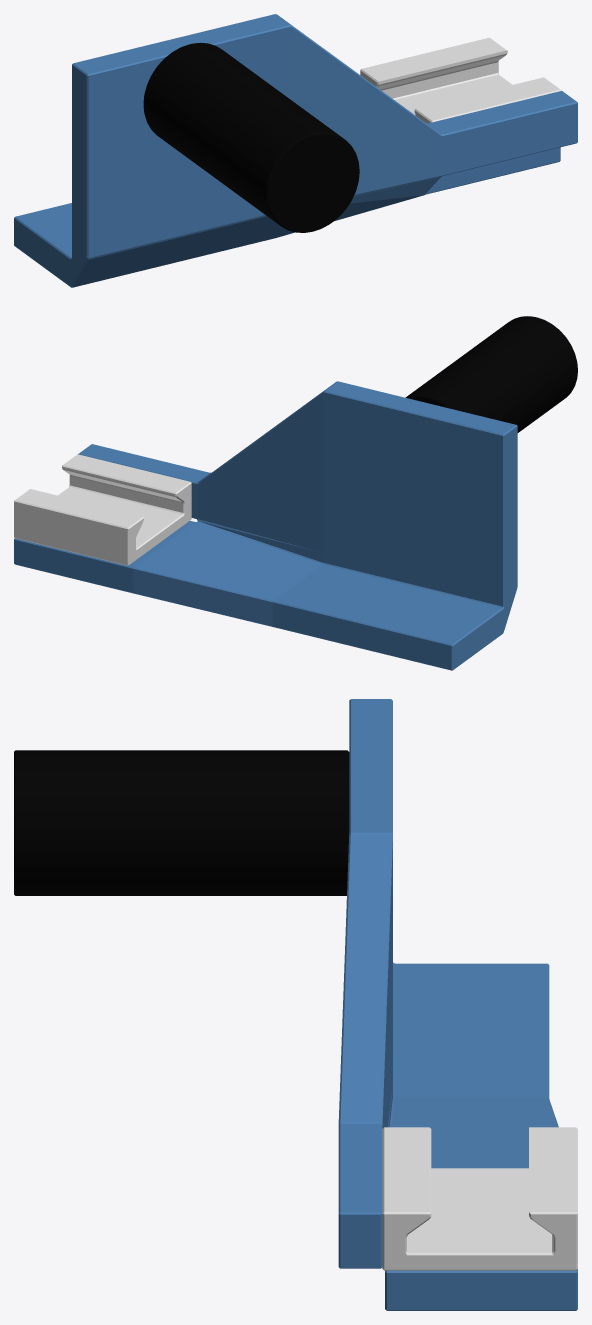
File: VIS_ElbowWristLink.dae
3 renders of one model, top to bottom at view 1: azimuth 30°, elevation 25°; view 2: azimuth 150°, elevation 25°; view 3: azimuth 270°, elevation 25°, orthographic. The views are drawn at different scales.
Parts seen in each view (by area): view 1: VIS_ElbowWristLink; view 2: VIS_ElbowWristLink; view 3: VIS_ElbowWristLink.
Part boxes in pixels (bbox=[...]): VIS_ElbowWristLink: bbox=[14, 14, 577, 287]; VIS_ElbowWristLink: bbox=[14, 316, 577, 670]; VIS_ElbowWristLink: bbox=[14, 699, 577, 1310].
Size of the model in its own units: 0.2499 by 0.1853 by 0.1137.
